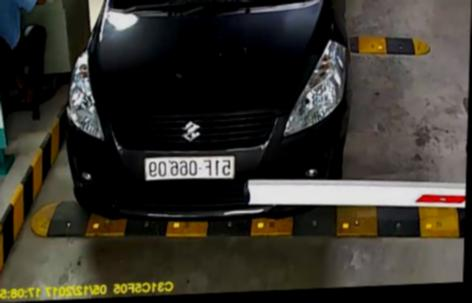License_Plate: (135, 148, 240, 187)
